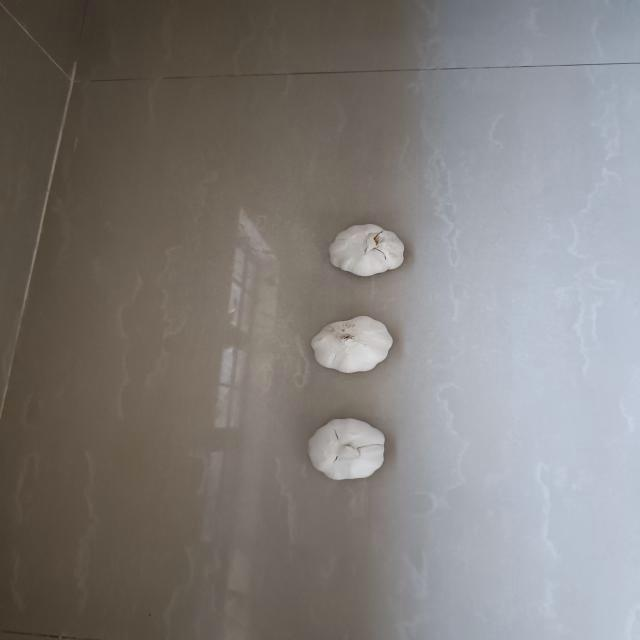garlic: (304, 313, 400, 376), (303, 414, 389, 483), (326, 219, 410, 279)
